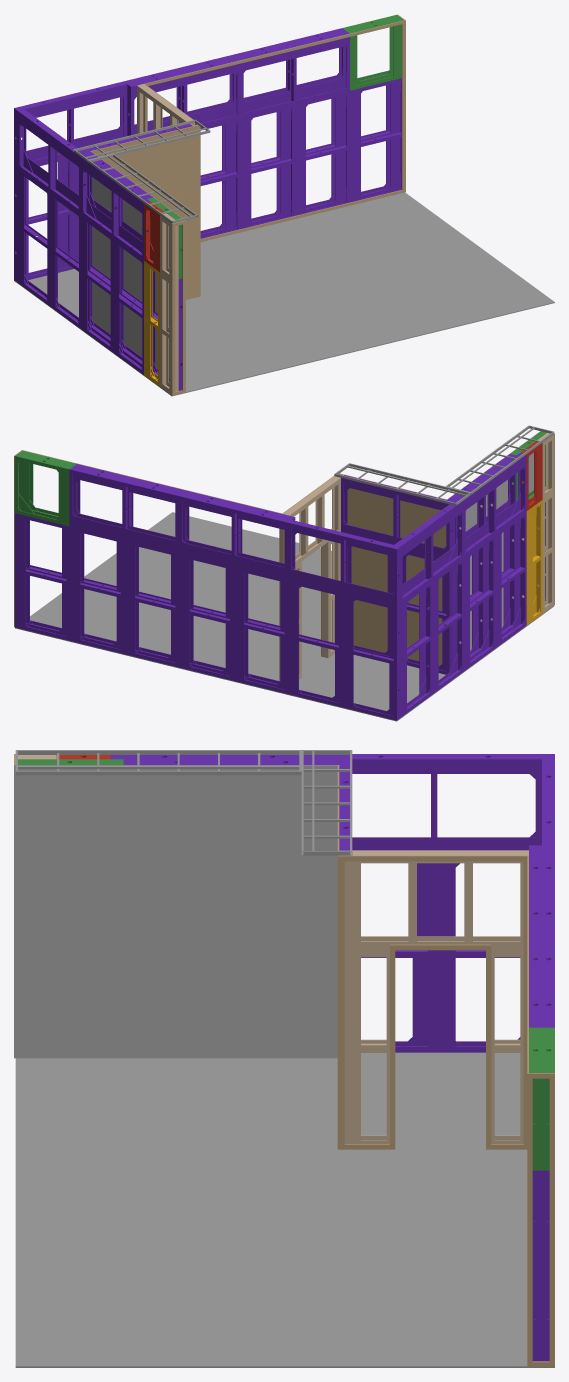
Rendered from model-3f6e9bafee9a.glb.
3 views of the same model, one above another, from view 1: azimuth 30°, elevation 25°; view 2: azimuth 150°, elevation 25°; view 3: azimuth 270°, elevation 25° (orthographic). The views are drawn at different scales.
Visible parts, largest first — view 1: Пол 16 мм, Body18 (×14), Body17 (×9), DSP 16mm (×2), MDF 6mm (×2), Body23 (×2), ЗБ-2 задник верх, ЗБ-1 задник низ, ЗБ-17 торец МДФ край 1, ЗБ-18 торец МДФ край 2, ЗБ-4 задник справа; view 2: Body18 (×24), Пол 16 мм, Body17 (×20), DSP 16mm (×2), Body22 (×13), Body15 (×11), MDF 6mm (×2), Body23, Body19, end A, Body1, 40x20x2 1 (+6 smaller); view 3: Пол 16 мм, MDF 6mm (×2), Body17 (×2), Body16 (×5), Body15 (×6), MDF 6mm 300x1880, Body18 (×2), MDF 6mm 300x1136, Body23 (×2), upright 2-2 (×2), ЗБ-13 торец задника край 1, ЗБ-14 торец задника край 2 (+14 smaller).
Part boxes in pixels (x1,y1,x2,y2): Пол 16 мм: [14, 192, 554, 396]; Body18 (×14): [17, 78, 400, 352]; Body17 (×9): [21, 34, 360, 261]; DSP 16mm (×2): [91, 125, 200, 299]; MDF 6mm (×2): [92, 177, 185, 392]; Body23 (×2): [144, 107, 295, 376]; ЗБ-2 задник верх: [145, 20, 404, 85]; ЗБ-1 задник низ: [200, 189, 404, 241]; ЗБ-17 торец МДФ край 1: [172, 223, 175, 395]; ЗБ-18 торец МДФ край 2: [182, 220, 185, 393]; ЗБ-4 задник справа: [402, 23, 404, 189]; Body18 (×24): [15, 456, 524, 713]; Пол 16 мм: [15, 512, 553, 721]; Body17 (×20): [62, 467, 520, 714]; DSP 16mm (×2): [339, 473, 446, 665]; Body22 (×13): [66, 470, 495, 716]; Body15 (×11): [70, 464, 524, 719]; MDF 6mm (×2): [459, 453, 533, 650]; Body23: [526, 510, 532, 621]; Body19: [58, 470, 69, 522]; end A: [322, 542, 327, 657]; Body1: [535, 443, 542, 503]; 40x20x2 1: [334, 473, 456, 505]; Пол 16 мм: [15, 1052, 554, 1367]; MDF 6mm (×2): [14, 794, 337, 1058]; Body17 (×2): [352, 837, 535, 1046]; Body16 (×5): [110, 754, 549, 1361]; Body15 (×6): [340, 754, 553, 1027]; MDF 6mm 300x1880: [14, 765, 216, 794]; Body18 (×2): [352, 754, 535, 1036]; MDF 6mm 300x1136: [216, 765, 338, 794]; Body23 (×2): [333, 759, 535, 1046]; upright 2-2 (×2): [352, 957, 494, 1140]; ЗБ-13 торец задника край 1: [549, 1073, 554, 1366]; ЗБ-14 торец задника край 2: [527, 1073, 532, 1366].
Size of the model in its own units: 7.02 by 3.06 by 5.02.
